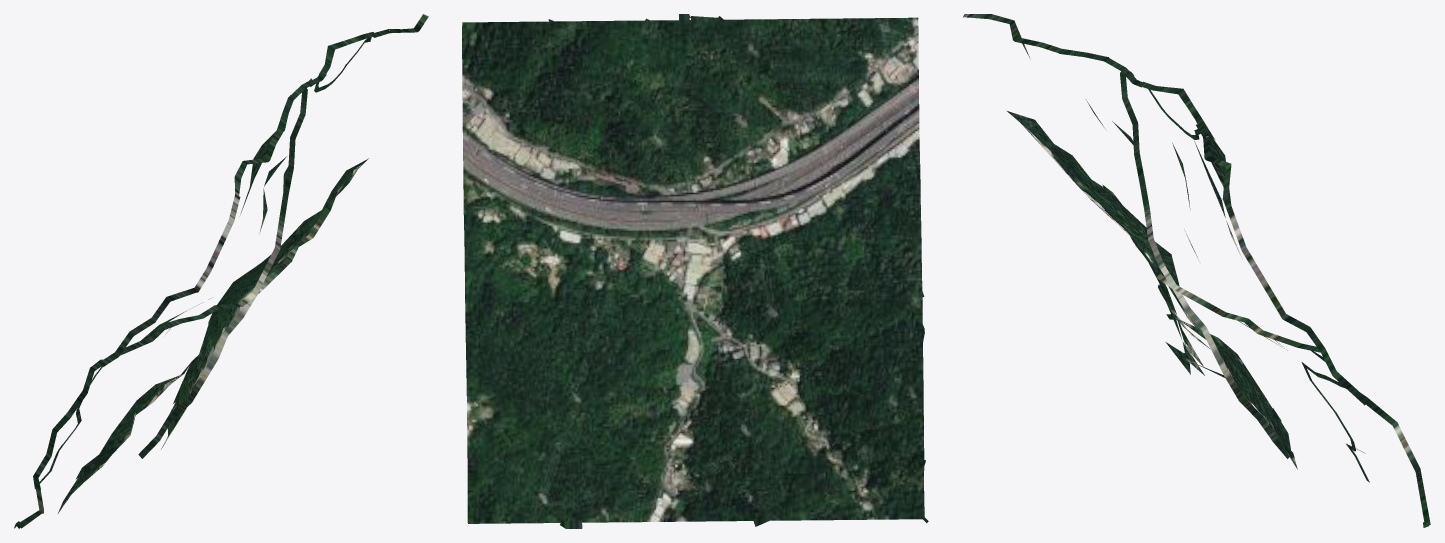
The picture shows the model from 3 angles, left to right: view 1: azimuth 30°, elevation 25°; view 2: azimuth 150°, elevation 25°; view 3: azimuth 270°, elevation 25°; orthographic projection. The views are drawn at different scales.
Size of the model in its own units: 1261 by 1162 by 1123.
1 material, 1 textured.
